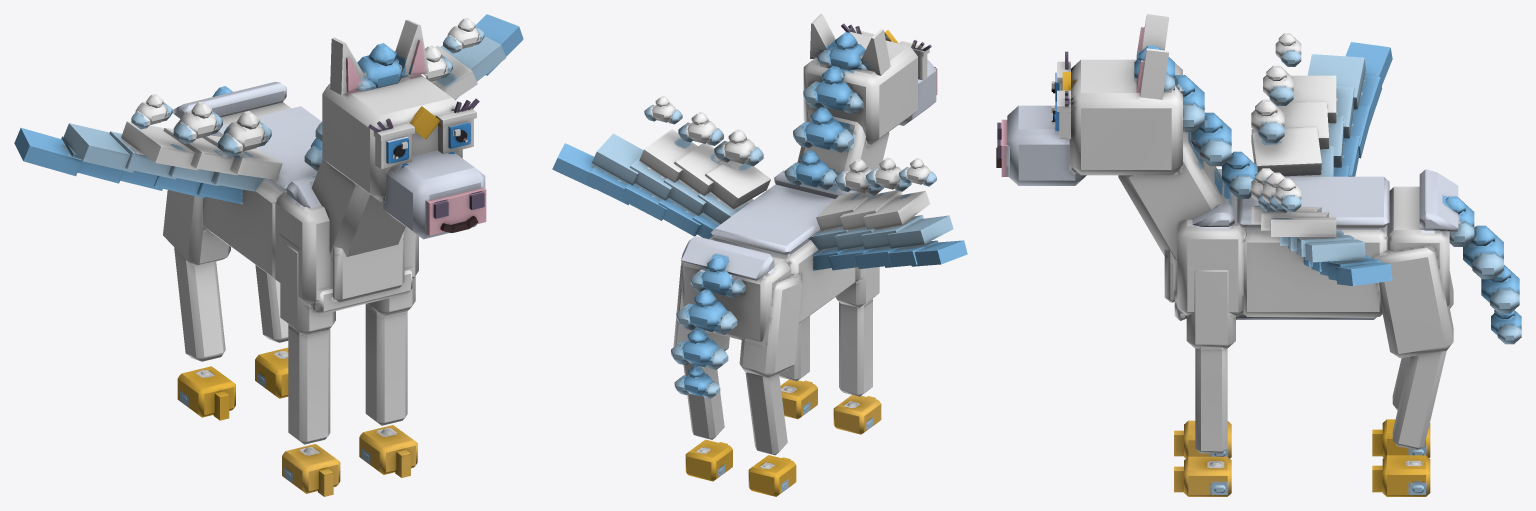
Rendered from PegaseNuageux_Rig.fbx.
3 renders of one model, left to right at view 1: azimuth 30°, elevation 25°; view 2: azimuth 150°, elevation 25°; view 3: azimuth 270°, elevation 25°, orthographic. The views are drawn at different scales.
Visible parts, largest first — view 1: Body, Head, WingR, LegBR, LegFR, LegFL, WingL, LegBL; view 2: Body, WingL, WingR, Head, LegBR, LegFR, Tail, LegBL, LegFL; view 3: Body, Head, WingR, LegBL, LegFL, WingL, Tail, LegBR, LegFR.
Part boxes in pixels (bbox=[...]): Body: bbox=[172, 81, 418, 314]; Head: bbox=[322, 19, 486, 239]; WingR: bbox=[14, 94, 282, 204]; LegBR: bbox=[163, 190, 235, 420]; LegFR: bbox=[280, 240, 340, 496]; LegFL: bbox=[359, 276, 417, 477]; WingL: bbox=[421, 14, 523, 99]; LegBL: bbox=[255, 265, 288, 398]; Body: bbox=[681, 107, 889, 341]; WingL: bbox=[552, 96, 770, 239]; WingR: bbox=[808, 157, 967, 270]; Head: bbox=[803, 14, 937, 144]; LegBR: bbox=[739, 274, 802, 496]; LegFR: bbox=[833, 267, 881, 434]; Tail: bbox=[671, 255, 745, 398]; LegBL: bbox=[673, 265, 732, 481]; LegFL: bbox=[779, 316, 817, 419]; Body: bbox=[1118, 112, 1458, 320]; Head: bbox=[996, 14, 1204, 185]; WingR: bbox=[1251, 33, 1392, 176]; LegBL: bbox=[1372, 247, 1453, 496]; LegFL: bbox=[1174, 270, 1235, 496]; WingL: bbox=[1251, 168, 1392, 285]; Tail: bbox=[1445, 196, 1521, 344]; LegBR: bbox=[1372, 271, 1453, 457]; LegFR: bbox=[1174, 420, 1231, 458].
Bounding box in the file's own units: 6.79 × 6 × 6.48.
Materials: 1 (1 with a texture image).
